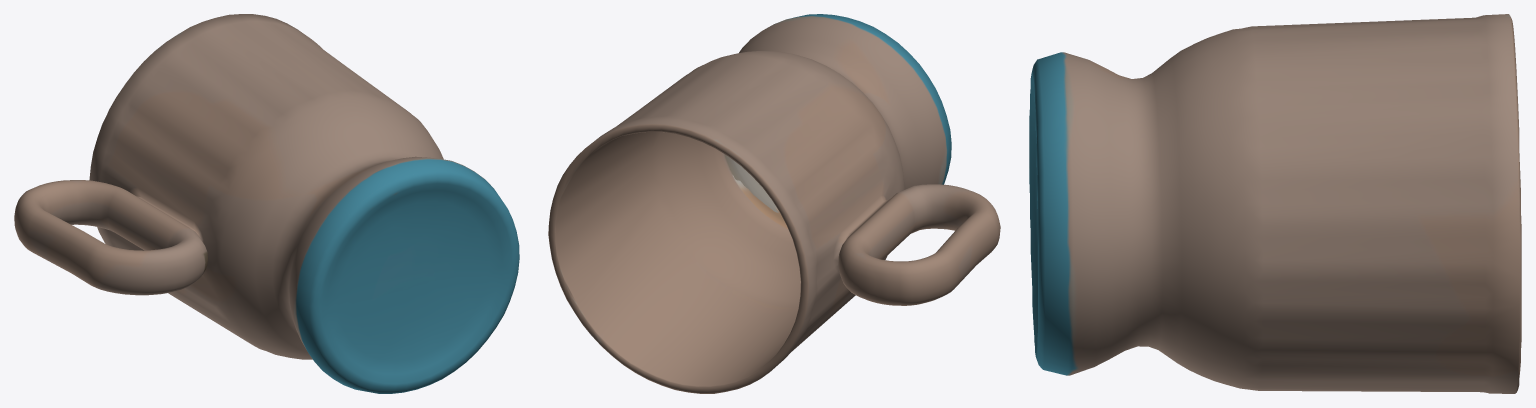
Rendered from mug.fbx.
3 views of the same model, side by side, from view 1: azimuth 30°, elevation 25°; view 2: azimuth 150°, elevation 25°; view 3: azimuth 270°, elevation 25° (orthographic). The views are drawn at different scales.
Parts seen in each view (by area): view 1: mesh_rep_0_ori_repair_quad; view 2: mesh_rep_0_ori_repair_quad; view 3: mesh_rep_0_ori_repair_quad.
Part boxes in pixels (x1=…): mesh_rep_0_ori_repair_quad: x1=14, y1=14, x2=519, y2=393; mesh_rep_0_ori_repair_quad: x1=548, y1=14, x2=1000, y2=393; mesh_rep_0_ori_repair_quad: x1=1029, y1=14, x2=1521, y2=393.
Bounding box in the file's own units: 11.7 × 8.16 × 10.54.
1 material, 1 textured.
